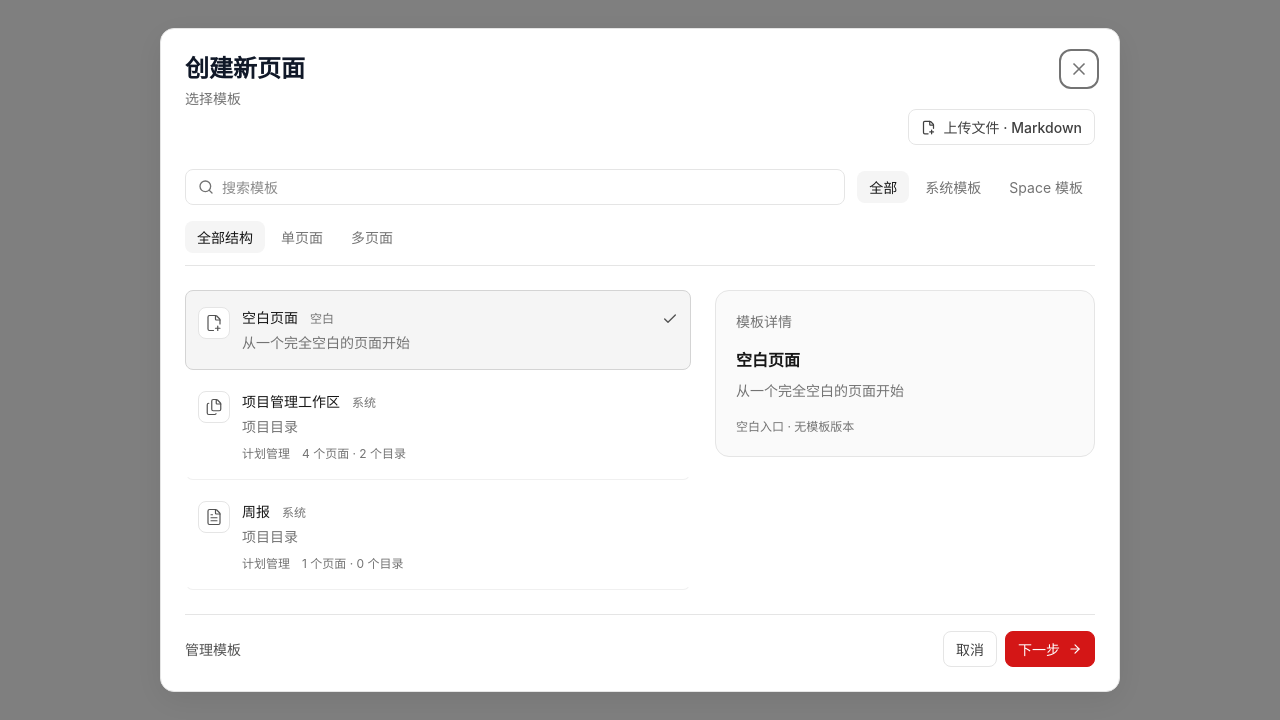
Test: NewPageDialog composite flow › omits task selection for the first enabled preview so the server can select all valid tasks
What coordinates should you click on to do the following:
click the button "项目管理工作区 系统 项目目录 计划管理 4 个页面 · 2 个目录"
I would click on:
 (214, 407)
Its box is left=185, top=374, right=691, bottom=480.
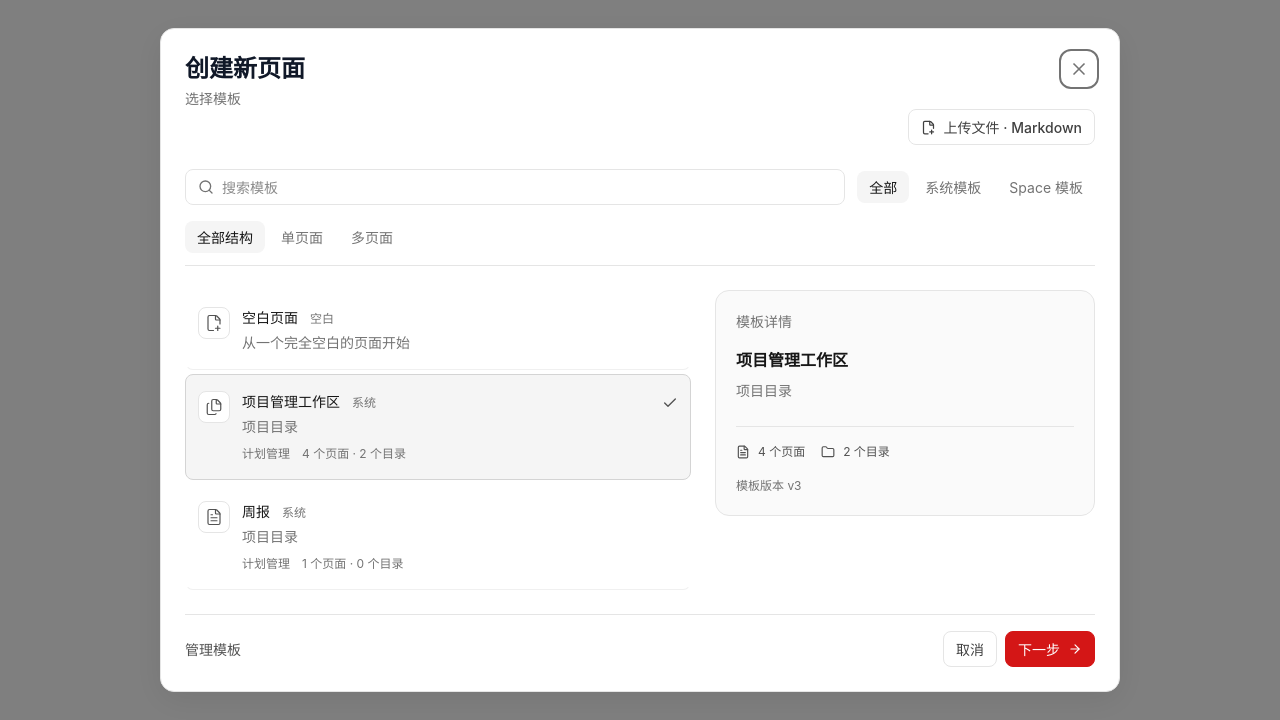
What coordinates should you click on to do the following:
click the button "下一步"
I would click on:
 (1050, 649)
Its box is left=1005, top=631, right=1095, bottom=667.
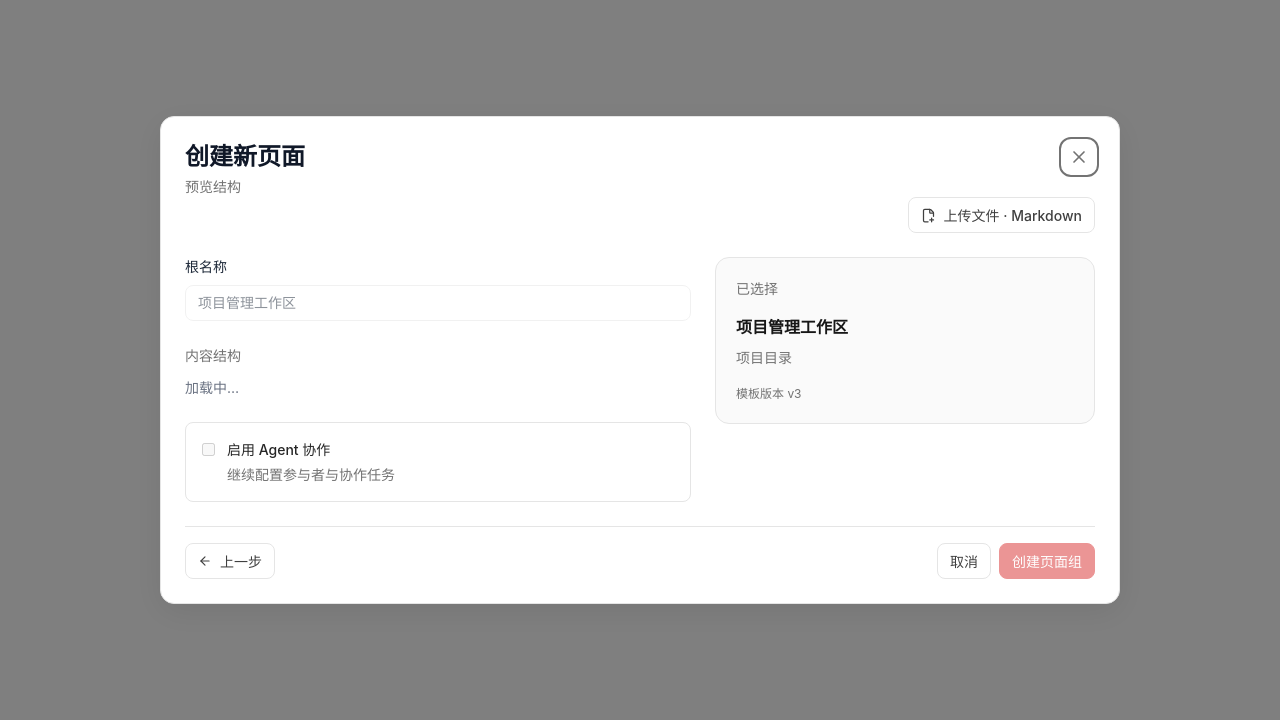
What coordinates should you click on to do the following:
click the checkbox labelled "启用 Agent 协作"
I would click on:
 (208, 450)
Its box is left=202, top=443, right=215, bottom=456.
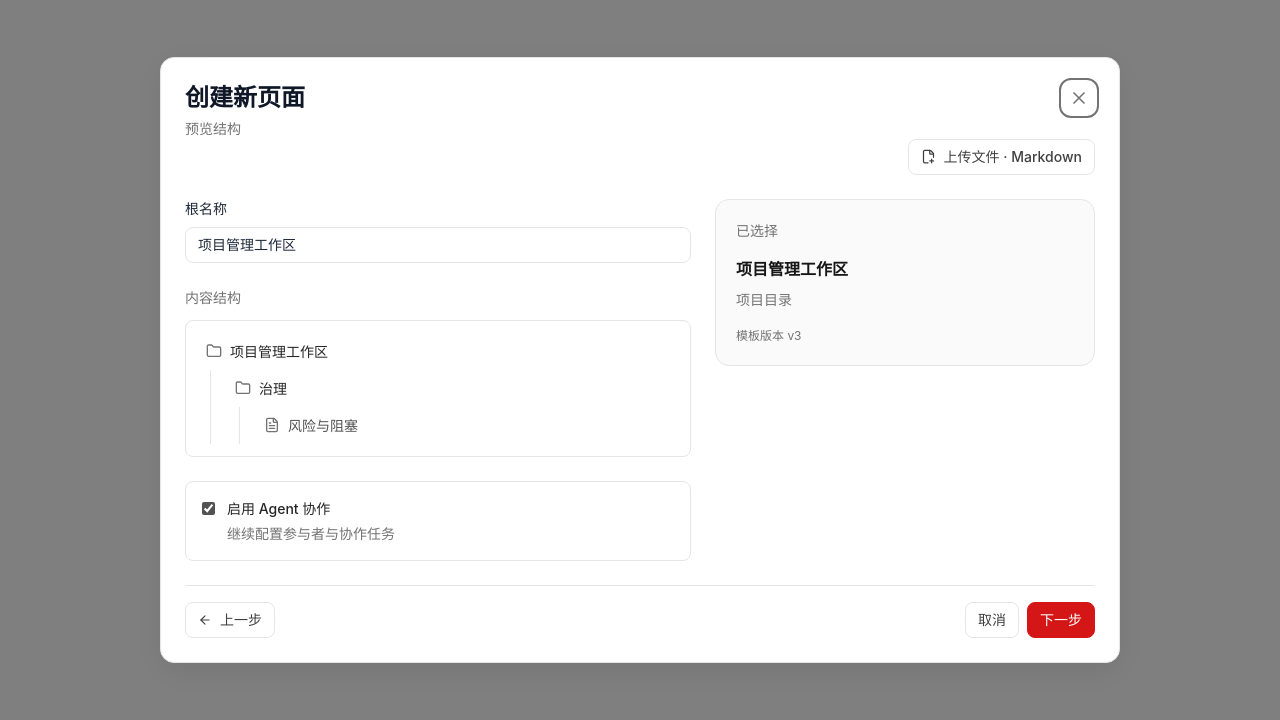
Expected: the button "下一步" is enabled, left=1027, top=602, right=1095, bottom=638
